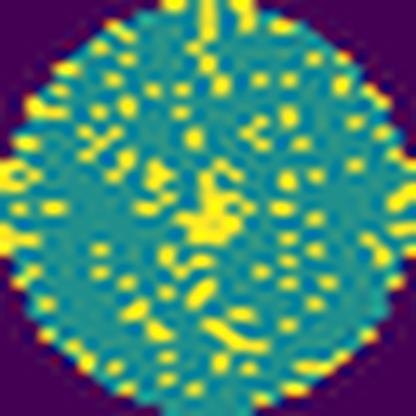Center: (172, 155, 256, 249)
